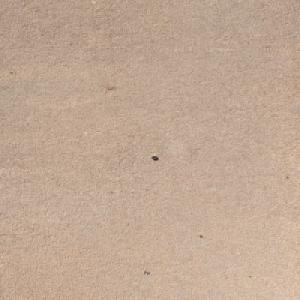Nut: (151, 155, 157, 159)
